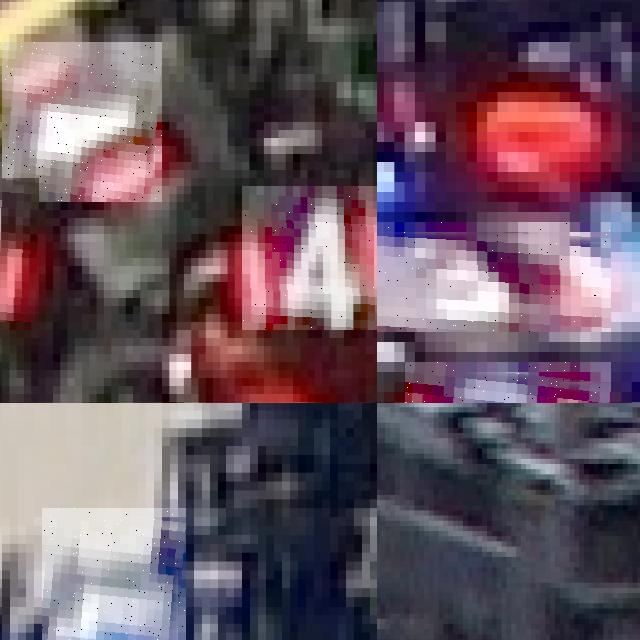B4: (42, 508, 186, 640)
R3: (377, 222, 610, 332), (404, 362, 611, 403)
R4: (2, 42, 162, 202), (242, 186, 377, 330), (0, 178, 38, 322)
